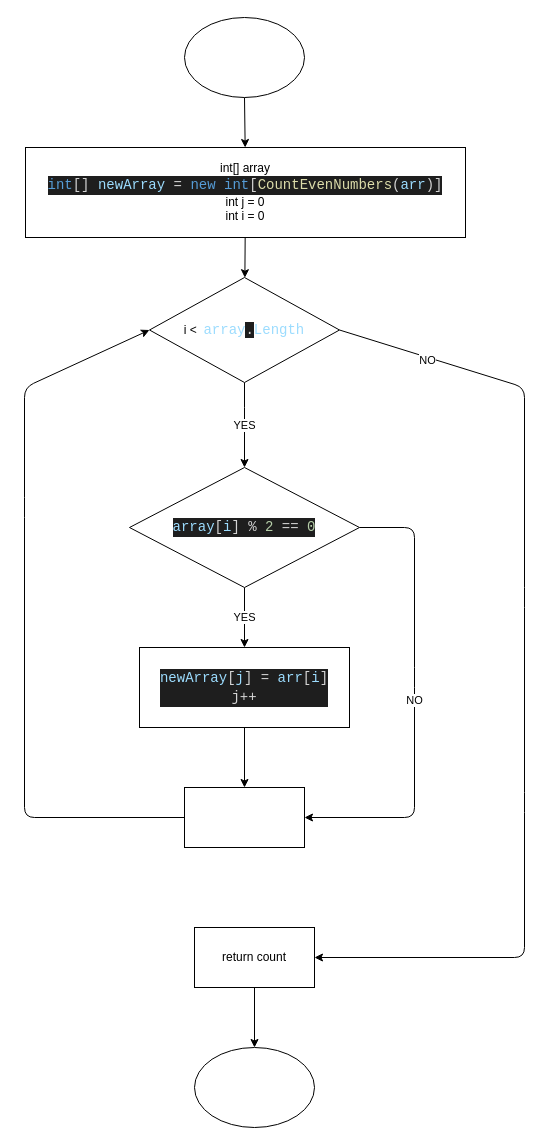
Image size: 550x1145. Some labels were removed from this diagram. Here are the shapes that lost their labels. From the top down, the centre of each, then its label:
the point at 244,57: start
the point at 244,817: i++
the point at 254,1087: END
